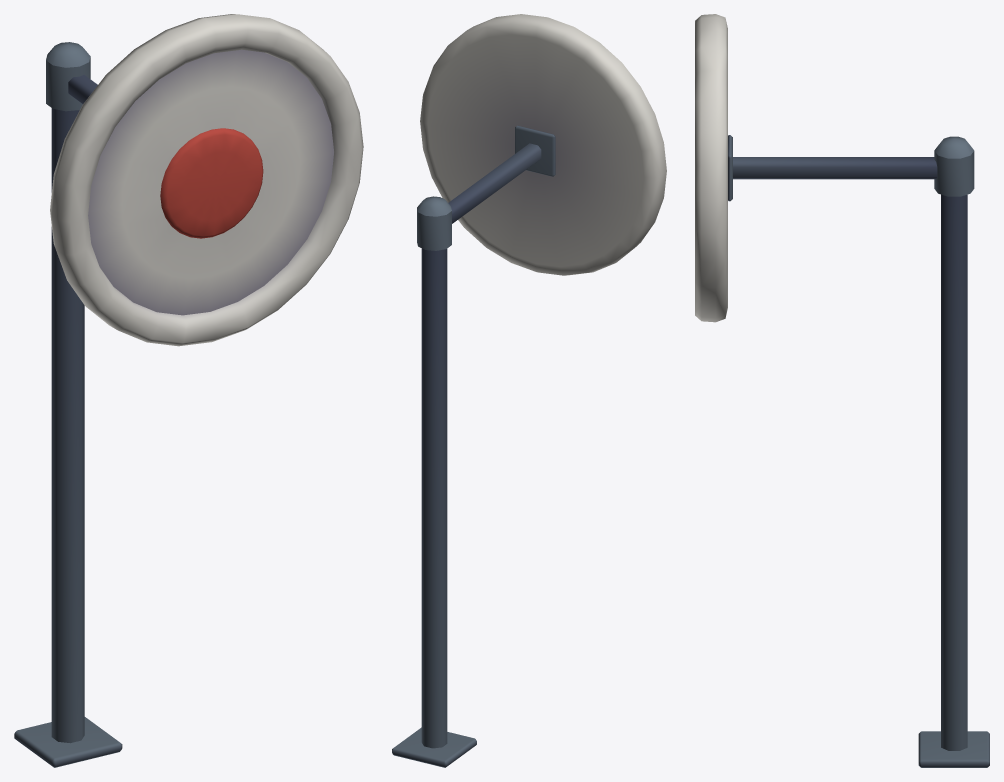
File: Target.fbx
The picture shows the model from 3 angles, left to right: view 1: azimuth 30°, elevation 25°; view 2: azimuth 150°, elevation 25°; view 3: azimuth 270°, elevation 25°; orthographic projection. The views are drawn at different scales.
Parts seen in each view (by area): view 1: Board, Face, Post; view 2: Board, Post; view 3: Board, Post.
Part boxes in pixels (bbox=[...]): Board: bbox=[46, 14, 363, 346]; Face: bbox=[88, 49, 333, 315]; Post: bbox=[14, 108, 122, 767]; Board: bbox=[417, 14, 666, 275]; Post: bbox=[392, 248, 476, 767]; Board: bbox=[695, 14, 974, 322]; Post: bbox=[918, 194, 989, 767].
Size of the model in its own units: 0.954 by 2.48 by 0.912.
